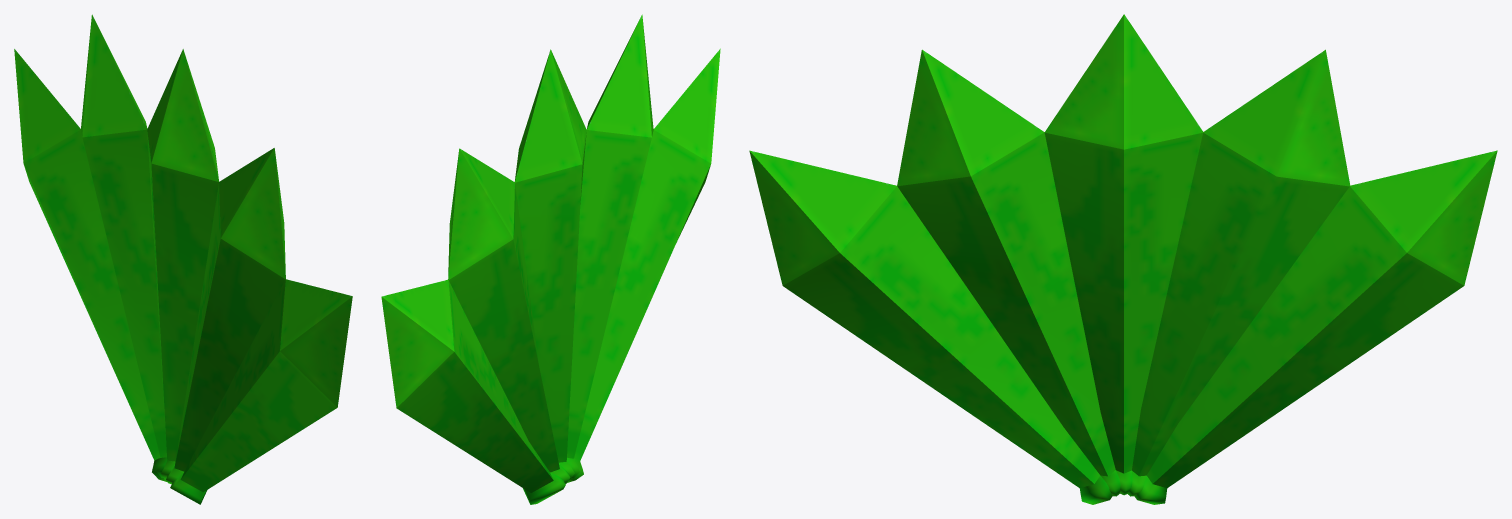
The model's file is GreenHillGrass.obj.
3 renders of one model, left to right at view 1: azimuth 30°, elevation 25°; view 2: azimuth 150°, elevation 25°; view 3: azimuth 270°, elevation 25°, orthographic. The views are drawn at different scales.
Bounding box in the file's own units: 1.66 × 11.11 × 15.35.
Materials: 1 (1 with a texture image).
